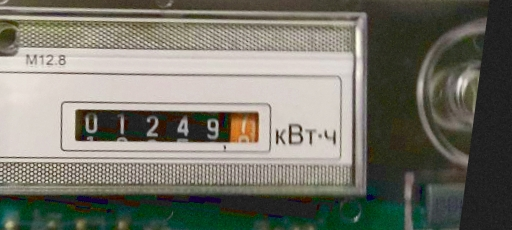0: (78, 106, 101, 135)
1: (110, 110, 128, 136)
2: (140, 112, 163, 140)
4: (173, 110, 194, 139)
7: (233, 110, 251, 135)
9: (202, 114, 223, 141)
screen: (47, 78, 288, 183)
